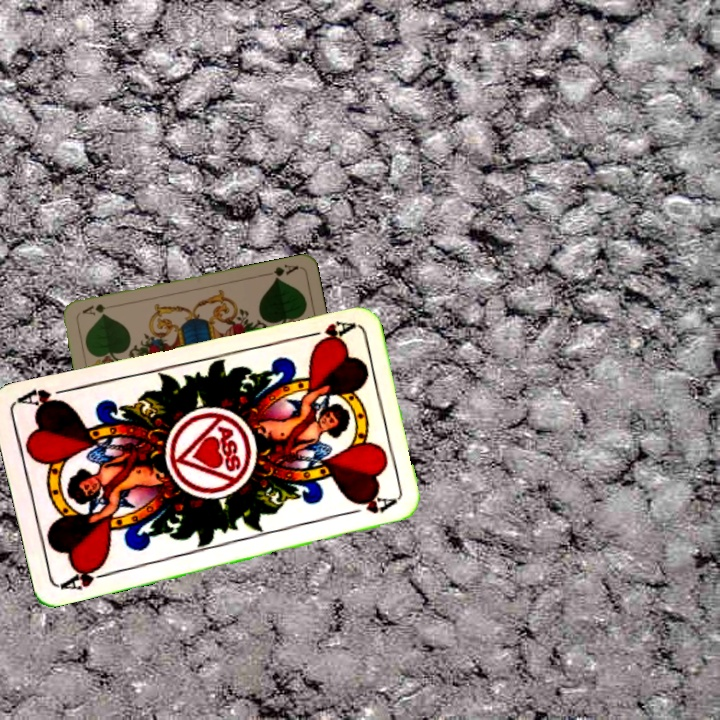GA: (261, 260, 301, 283)
HA: (57, 559, 116, 593), (297, 316, 356, 345)
